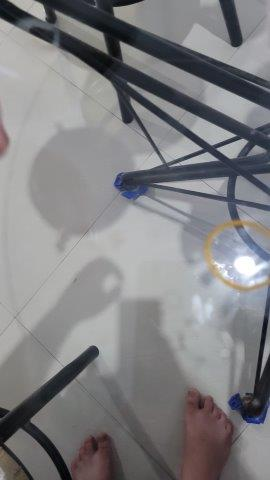karet: (204, 221, 270, 290)
